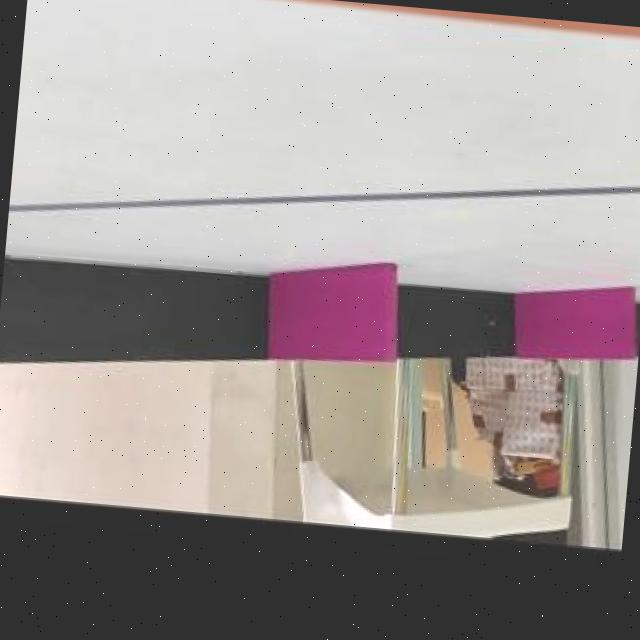xparking: (274, 257, 398, 361), (520, 280, 636, 359)
